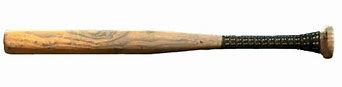bat: (2, 27, 336, 60)
